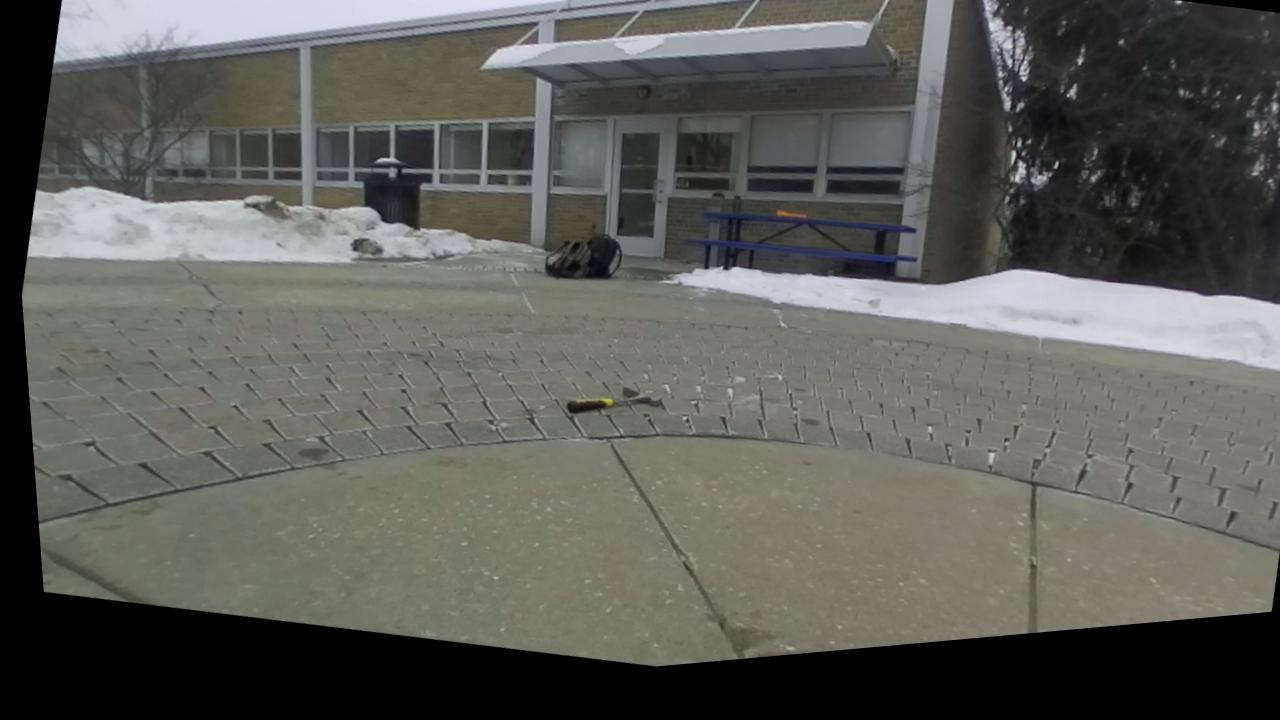mallet: (776, 211, 806, 218)
pick: (565, 387, 660, 413)
